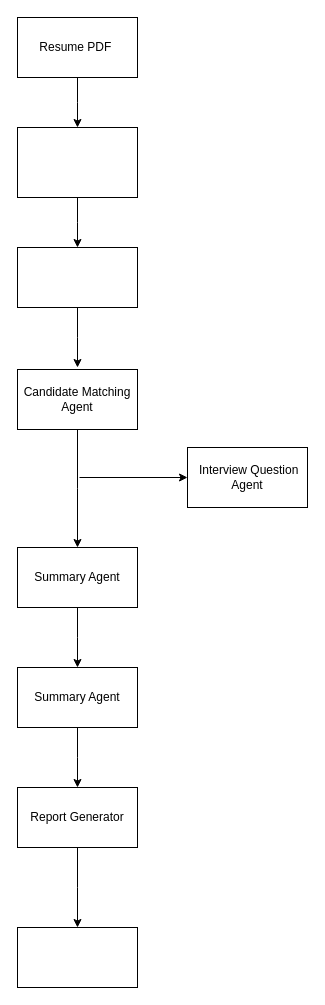
The diagram is 325 pixels wide and 1005 high, and some of its shapes have lost their labels. Here are the shapes that lost their labels. From the top down, the centre of each, then its label:
At point 77,162: "Resume Parsing Agent".
At point 77,277: "Skill Extraction Agent".
At point 77,957: "HR Reviewer".
